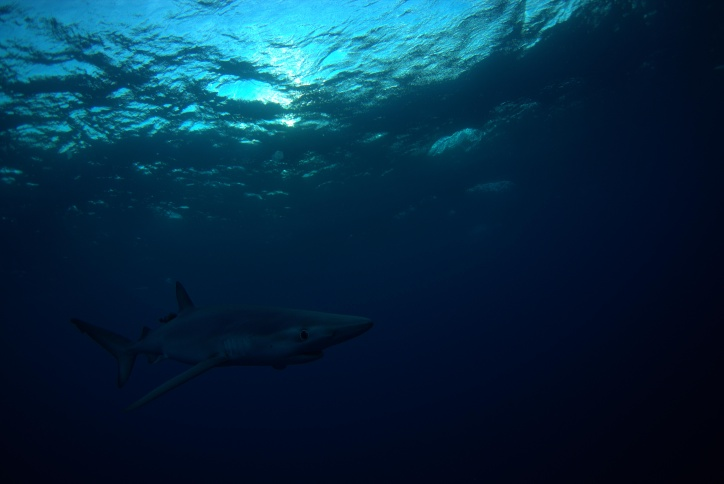Azul: (49, 254, 388, 435)
